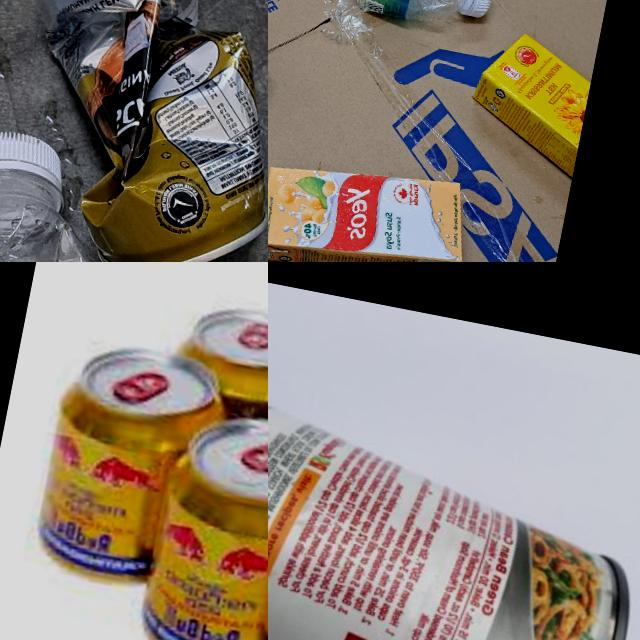aba de lata: (104, 358, 174, 420), (233, 426, 268, 483), (229, 310, 268, 356)
caixinha: (268, 140, 470, 262), (468, 15, 600, 172)
garrafa plástica: (199, 0, 268, 262), (0, 161, 147, 262), (322, 0, 485, 35)
lata: (268, 379, 640, 640), (0, 0, 268, 262), (29, 338, 230, 597), (132, 395, 268, 640), (170, 291, 268, 446)
papelão: (268, 0, 640, 262)
tampa plástica: (0, 123, 72, 218), (470, 0, 498, 16)
